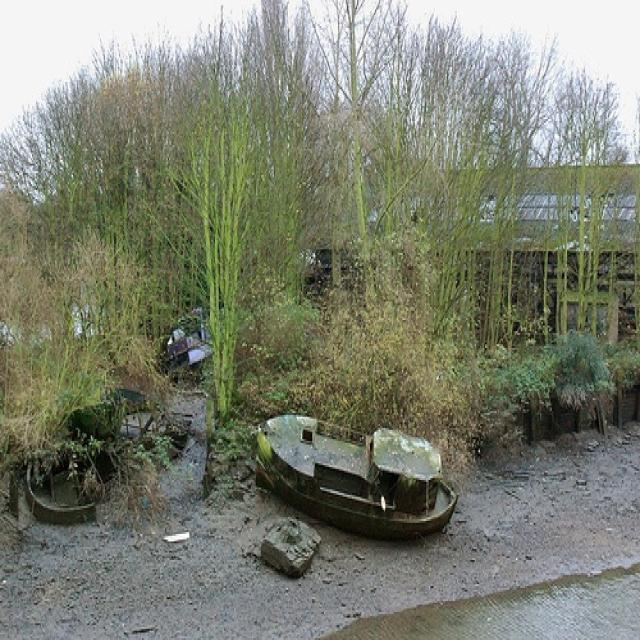boat: (252, 409, 460, 542)
